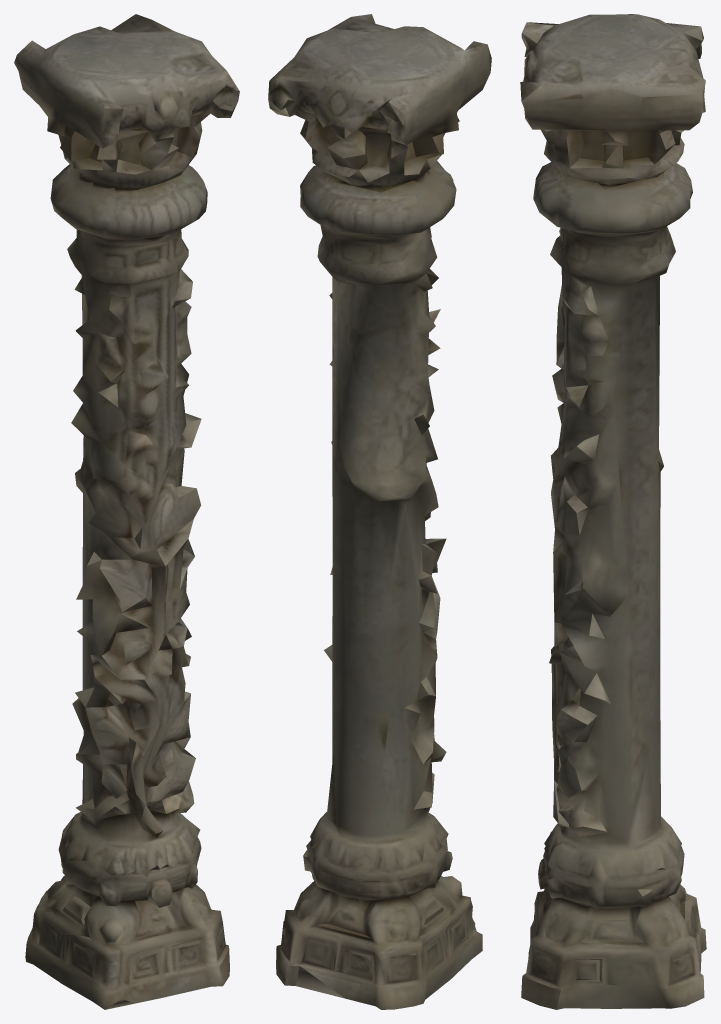
The model's file is pillar6.glb.
The picture shows the model from 3 angles, left to right: view 1: azimuth 30°, elevation 25°; view 2: azimuth 150°, elevation 25°; view 3: azimuth 270°, elevation 25°; orthographic projection.
Parts seen in each view (by area): view 1: pillar6; view 2: pillar6; view 3: pillar6.
Part boxes in pixels (x1,y1,x2,y2): pillar6: [14, 14, 239, 1009]; pillar6: [268, 14, 491, 1009]; pillar6: [520, 14, 706, 1009].
Bounding box in the file's own units: 0.1384 × 0.7604 × 0.1383.
1 material, 1 textured.
